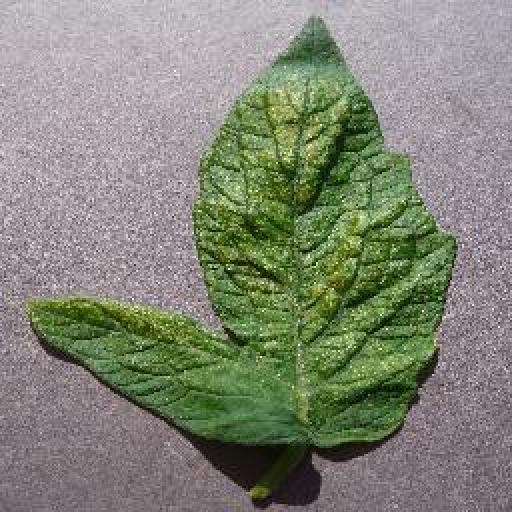Spider Mites: (33, 15, 459, 448)
